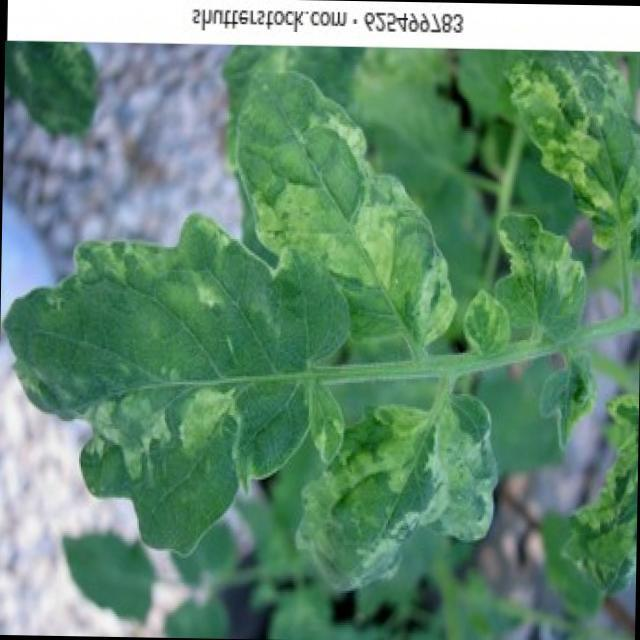Mosaic Virus: (7, 237, 281, 530), (255, 52, 442, 363), (308, 402, 486, 592), (508, 50, 640, 243), (578, 388, 639, 608), (498, 190, 576, 345), (458, 292, 512, 362)
